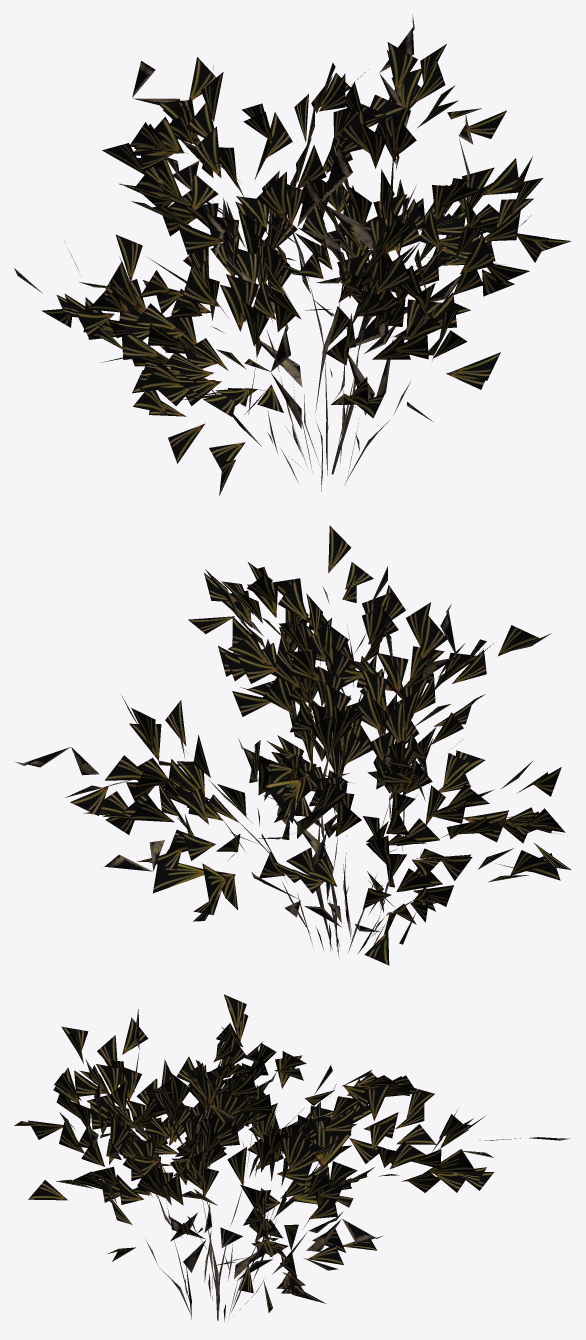
Rendered from bush_a_far.gltf.
3 views of the same model, one above another, from view 1: azimuth 30°, elevation 25°; view 2: azimuth 150°, elevation 25°; view 3: azimuth 270°, elevation 25° (orthographic). The views are drawn at different scales.
Parts seen in each view (by area): view 1: bush_a_far; view 2: bush_a_far; view 3: bush_a_far.
Boxes of the visible parts, bbox=[...] form: bush_a_far: bbox=[14, 14, 571, 495]; bush_a_far: bbox=[15, 525, 570, 965]; bush_a_far: bbox=[14, 994, 570, 1322].
Bounding box in the file's own units: 1.89 × 1.59 × 2.48.
3 materials, 3 textured.
